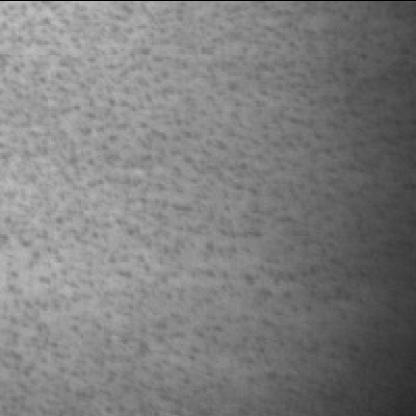pitted_surface: (8, 2, 341, 368)
